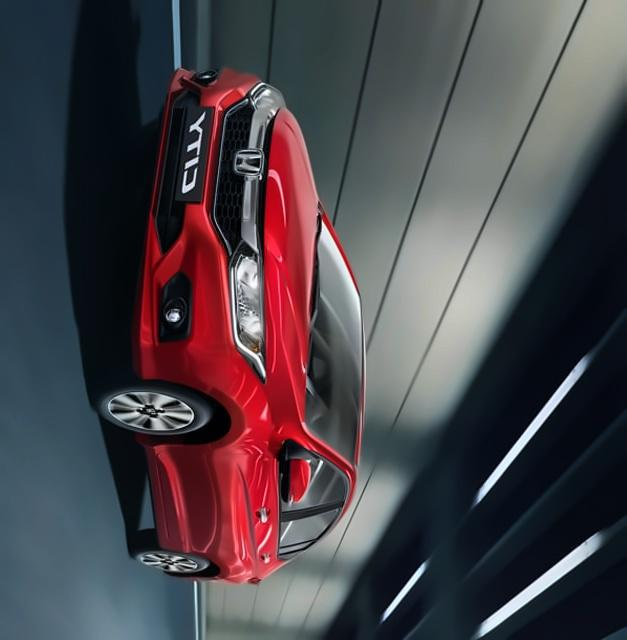Car hood: (261, 101, 321, 439)
Fender - -F-L-: (131, 352, 299, 465)
Front bumper: (139, 52, 260, 397)
Headlight - -L-: (228, 238, 267, 383)
Headlight - -R-: (246, 77, 285, 124)
Passenger-s door - -F-L-: (135, 424, 357, 513)
Passenger-s door - -R-L-: (148, 501, 356, 566)
Side bumper - -L-: (136, 429, 189, 555)
Side mirror - -L-: (276, 437, 316, 514)
